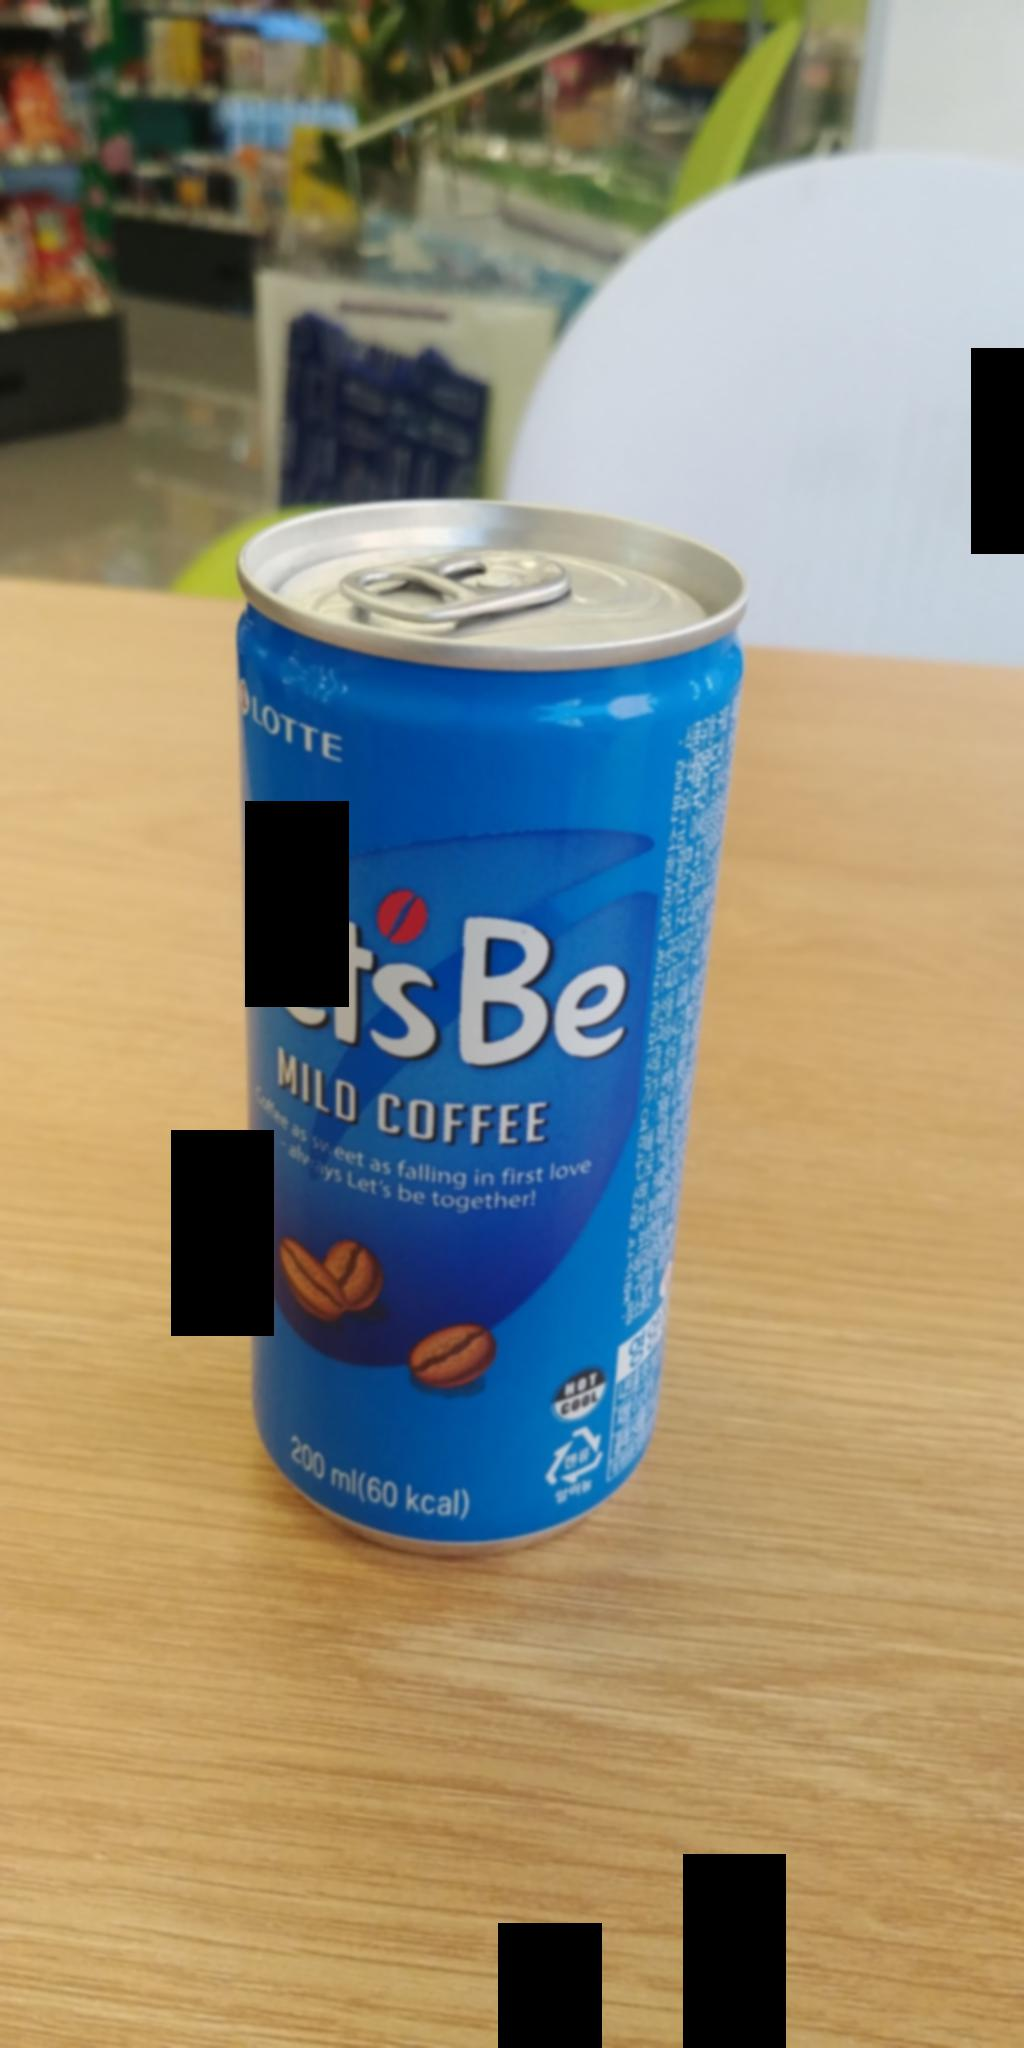letsbe: (238, 512, 704, 1544)
